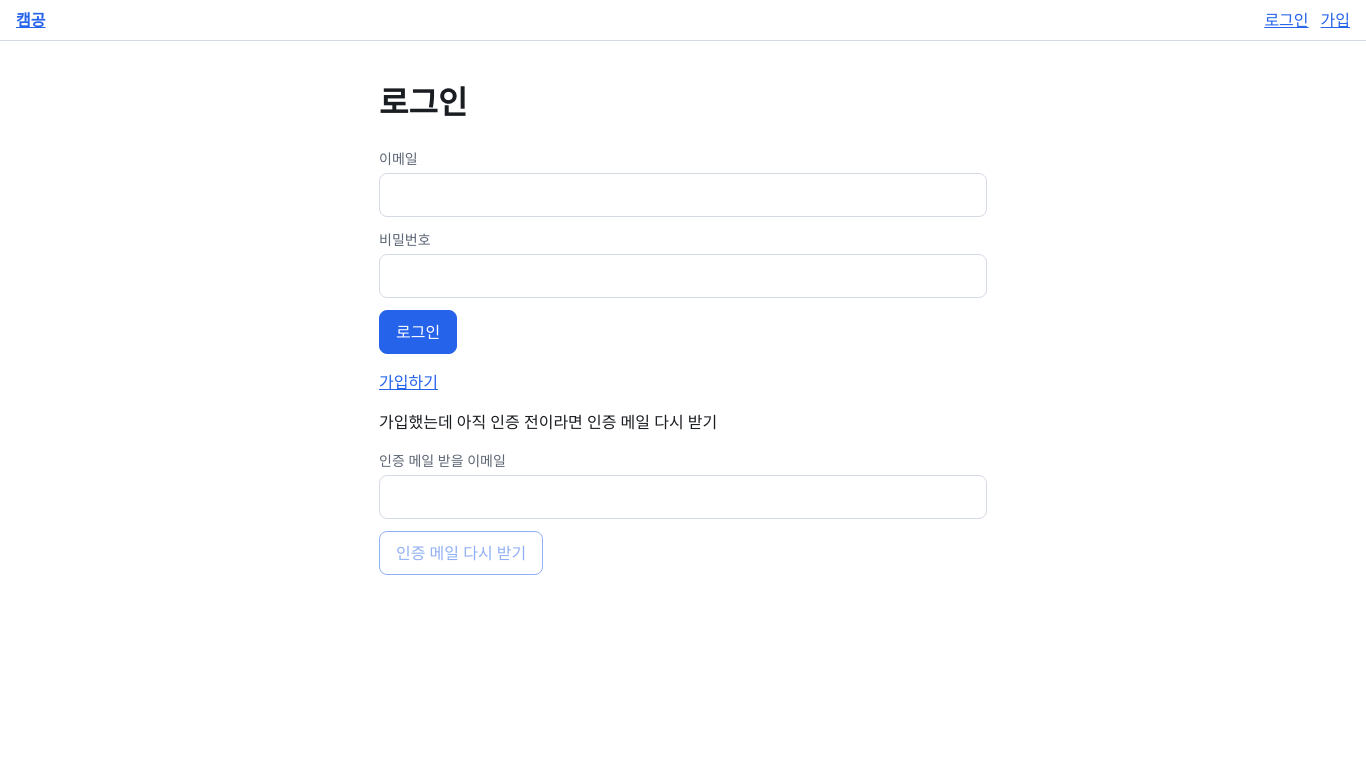
Test case: 지난 retryAt (검수 8) › 로그인 화면에서 이메일을 입력하면 재발송 입력란에도 반영된다
Type "a@school.ac.kr" into the field labelled "이메일".
click(683, 195); type("a@school.ac.kr")  # box 379,173 -> 987,217
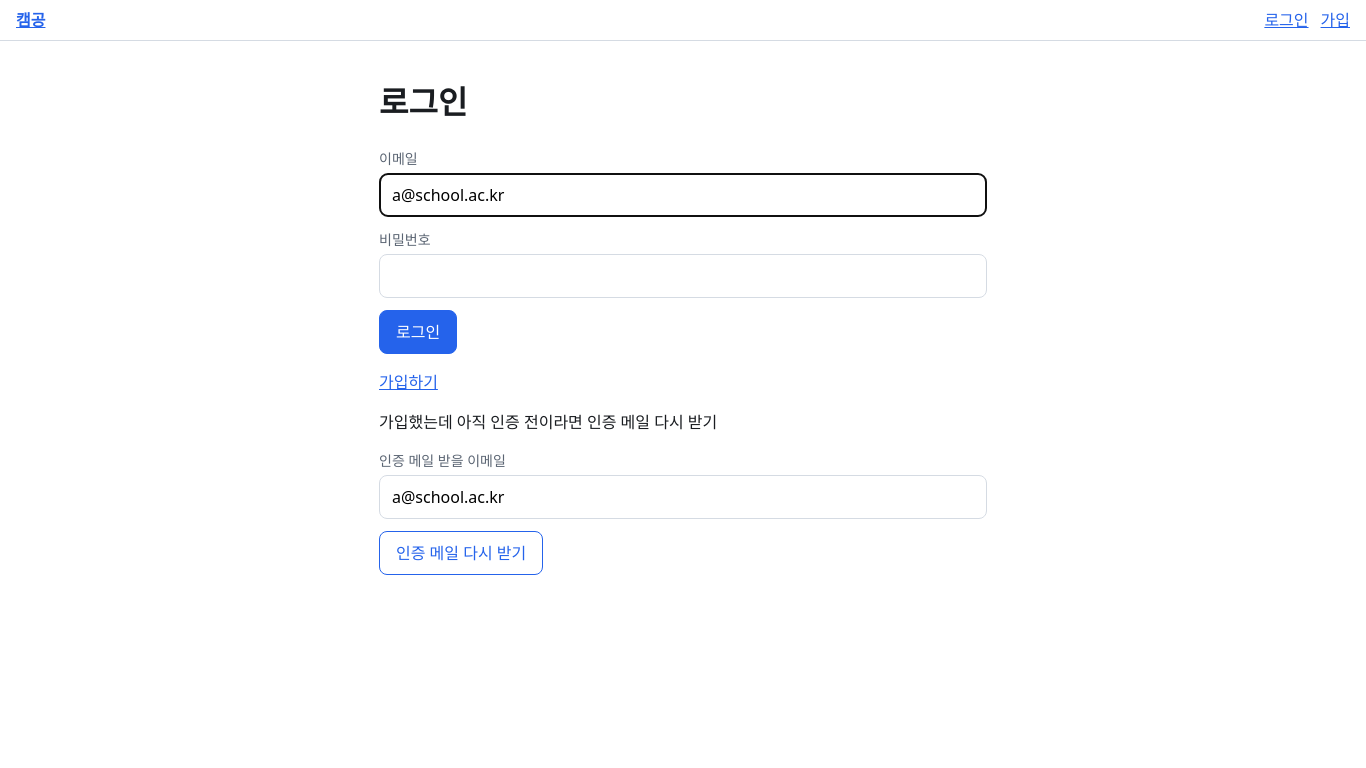
Check: the field labelled "인증 메일 받을 이메일" holds "a@school.ac.kr", box 379,475 -> 987,519
